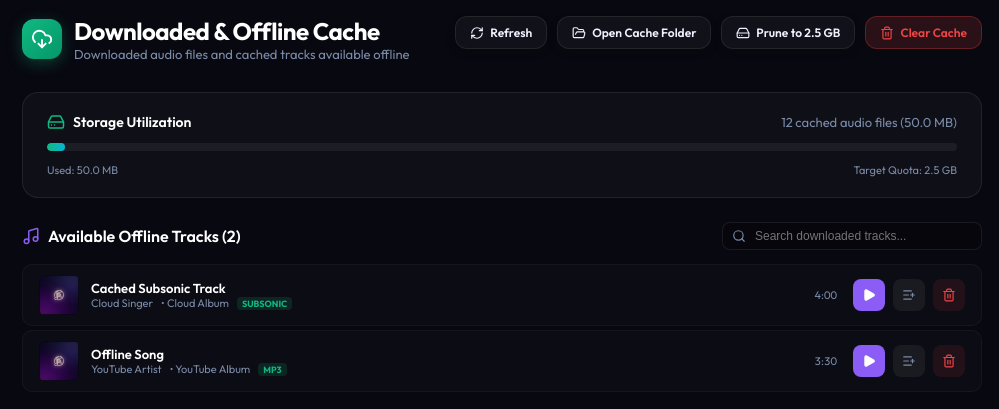
Test case: DownloadedView Component › prunes using the configured GB policy and refreshes offline availability
The width and height of the screenshot is (999, 409).
Click the button "Prune to 2.5 GB": (788, 32) [721, 16, 856, 49]
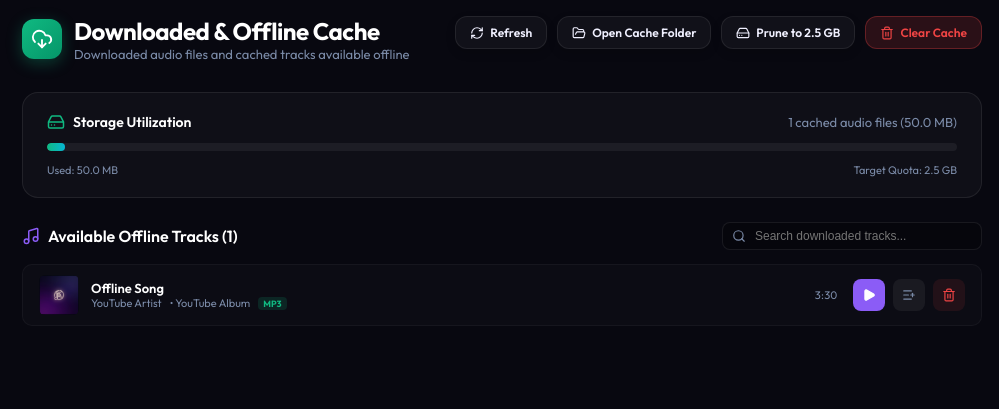
Check: the text "Offline Song" is shown, box [91, 280, 164, 296]
Check: the text "Cached Subsonic Track" is gone
Check: the text "1 cached audio files (50.0 MB)" is shown, box [788, 114, 957, 130]
